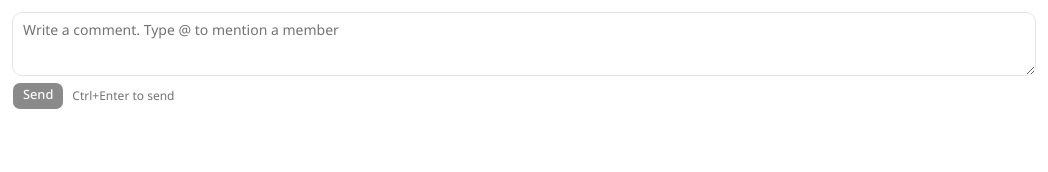
Test: CommentEditor › Ctrl+Enter submits and clears
This screenshot has width=1048, height=172.
Type "hello" into the text box.
click(524, 44); type("hello")  # box [12, 12, 1036, 76]
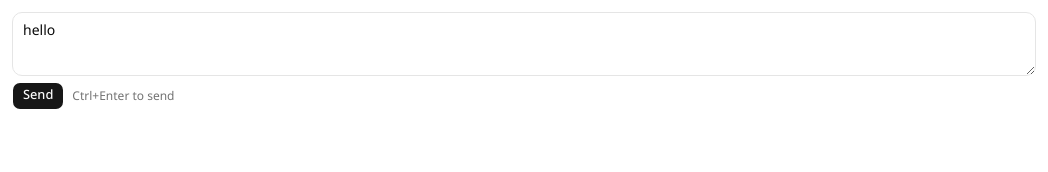
Press Enter in the text box, box [12, 12, 1036, 76]
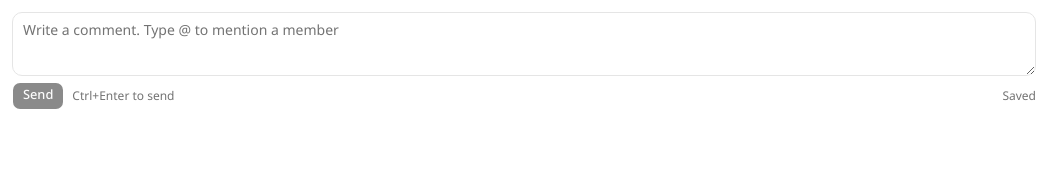
Check: the text box is empty, box [12, 12, 1036, 76]
